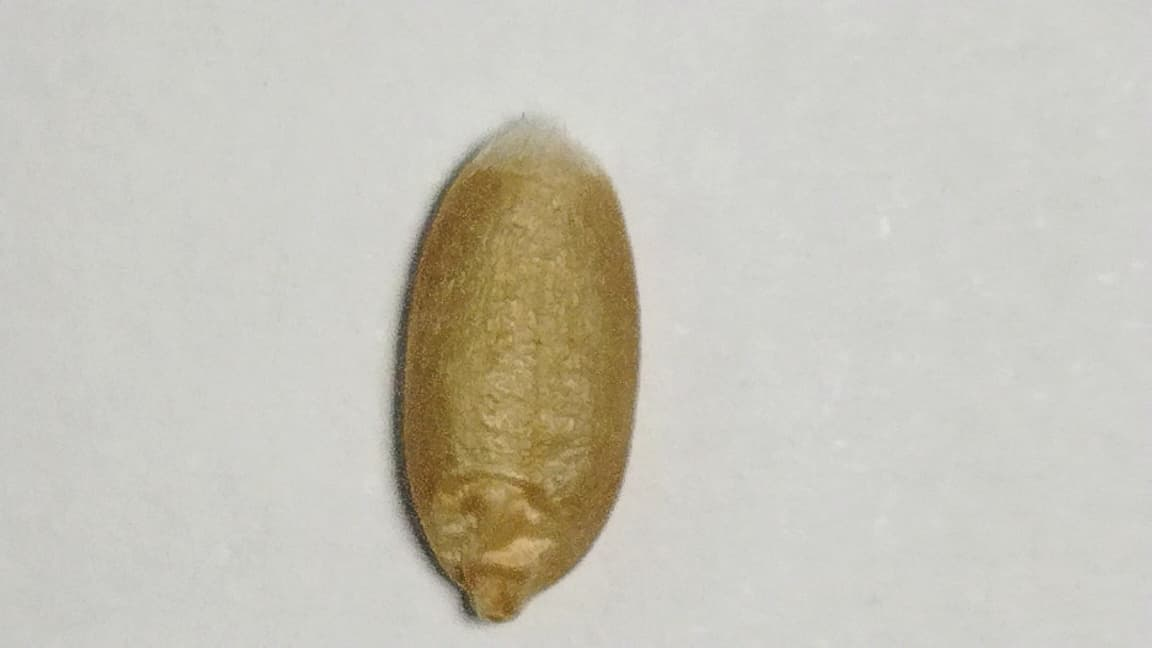healthy: (399, 126, 637, 619)
